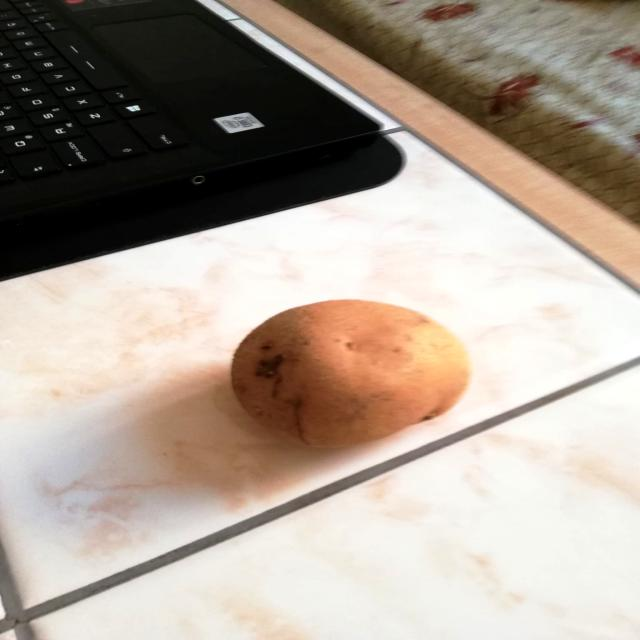potato: (220, 294, 483, 452)
